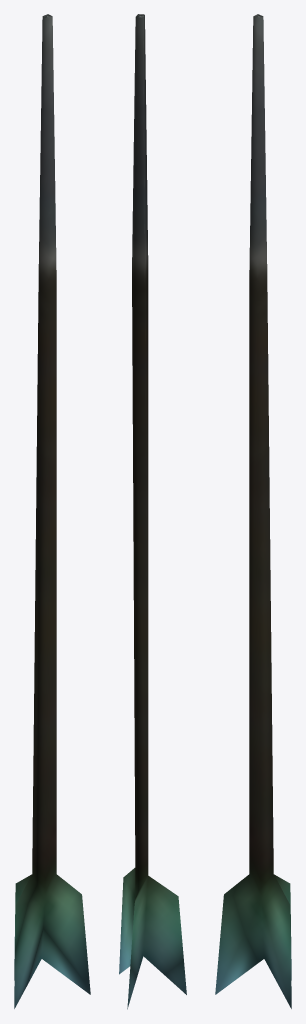
The model's file is tricksterArrow.glb.
3 views of the same model, side by side, from view 1: azimuth 90°, elevation 25°; view 2: azimuth 210°, elevation 25°; view 3: azimuth 270°, elevation 25° (orthographic).
Parts seen in each view (by area): view 1: tricksterArrow; view 2: tricksterArrow; view 3: tricksterArrow.
Part boxes in pixels (x1,y1,x2,y2): tricksterArrow: (14, 14, 90, 1008); tricksterArrow: (119, 14, 186, 1009); tricksterArrow: (215, 14, 291, 1008).
Size of the model in its own units: 0.0745 by 1.16 by 0.0826.
1 material, 1 textured.
